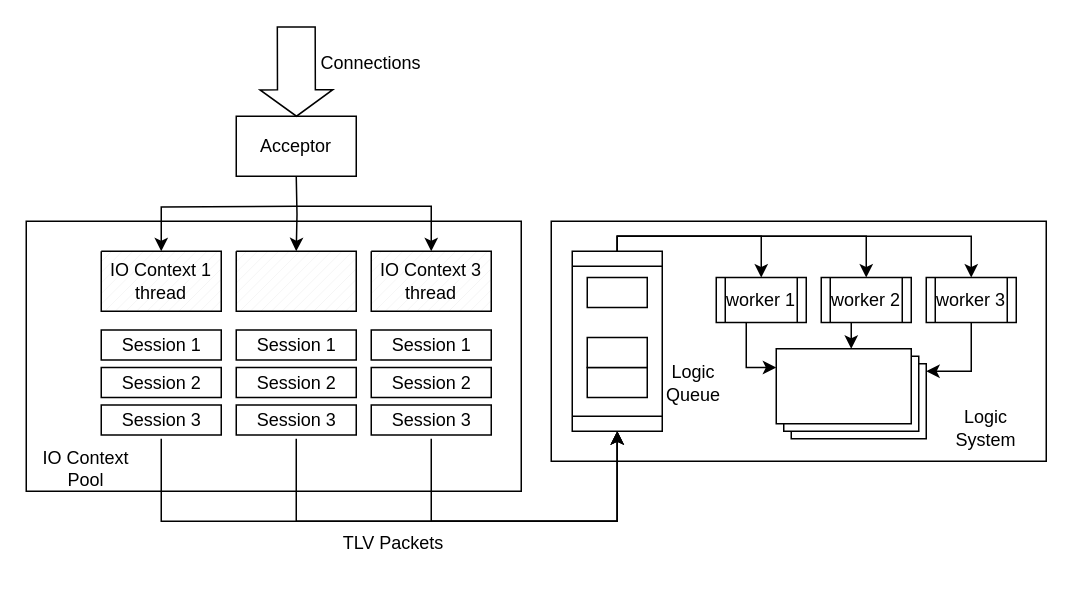
Image size: 1073x593. Some labels were removed from this diagram. Each missing label, with the centre of its shape:
"Callback Functions" goes at (x=850, y=393).
"IO Context 2 thread" goes at (x=295, y=280).
